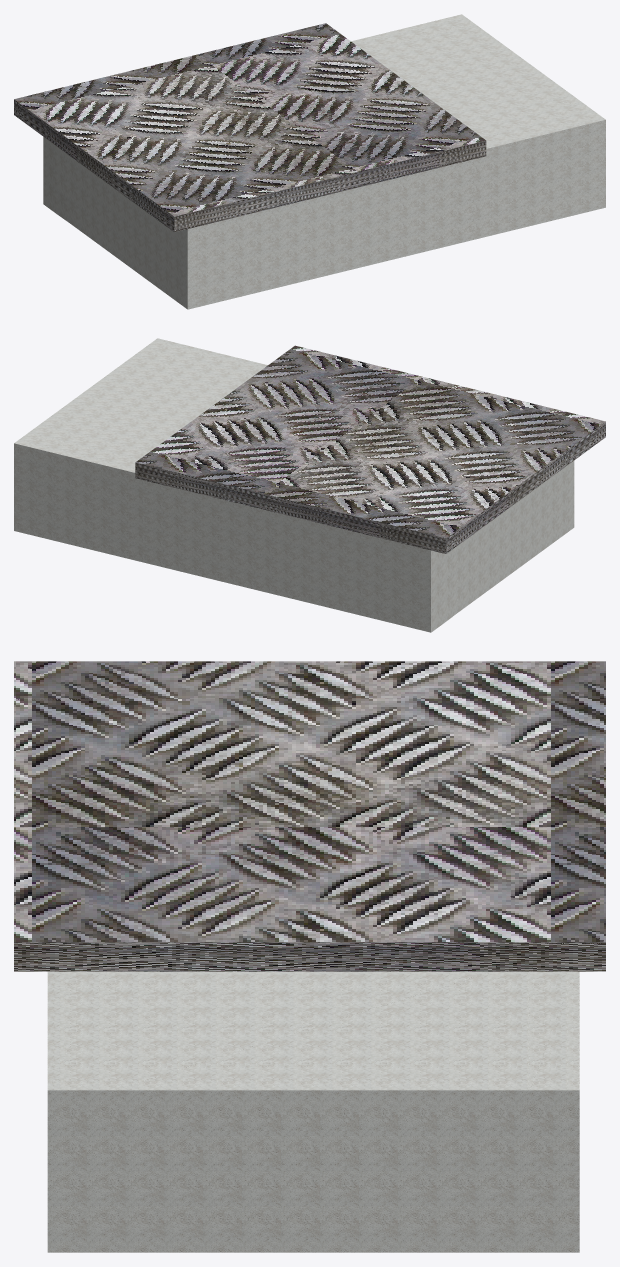
The model's file is DefaultDM.glb.
3 views of the same model, one above another, from view 1: azimuth 30°, elevation 25°; view 2: azimuth 150°, elevation 25°; view 3: azimuth 270°, elevation 25° (orthographic). The views are drawn at different scales.
Parts seen in each view (by area): view 1: Cube.001, Cube.002; view 2: Cube.001, Cube.002; view 3: Cube.002, Cube.001.
Boxes of the visible parts, x1,y1,x2,y2 form: Cube.001: [43, 14, 605, 309]; Cube.002: [14, 23, 486, 232]; Cube.001: [14, 338, 574, 632]; Cube.002: [135, 345, 605, 553]; Cube.002: [14, 661, 605, 971]; Cube.001: [47, 971, 579, 1252].
Size of the model in its own units: 310 by 78.94 by 195.
Materials: 5 (5 with a texture image).
